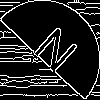N: (25, 24, 80, 82)
